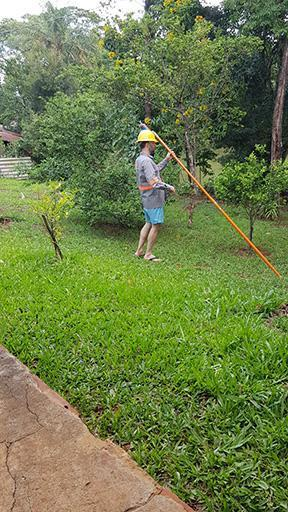helmet: (134, 129, 158, 153)
